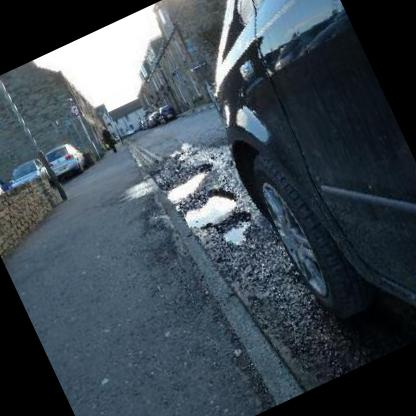pothole: (176, 182, 241, 234), (158, 157, 222, 208), (214, 209, 260, 252)
